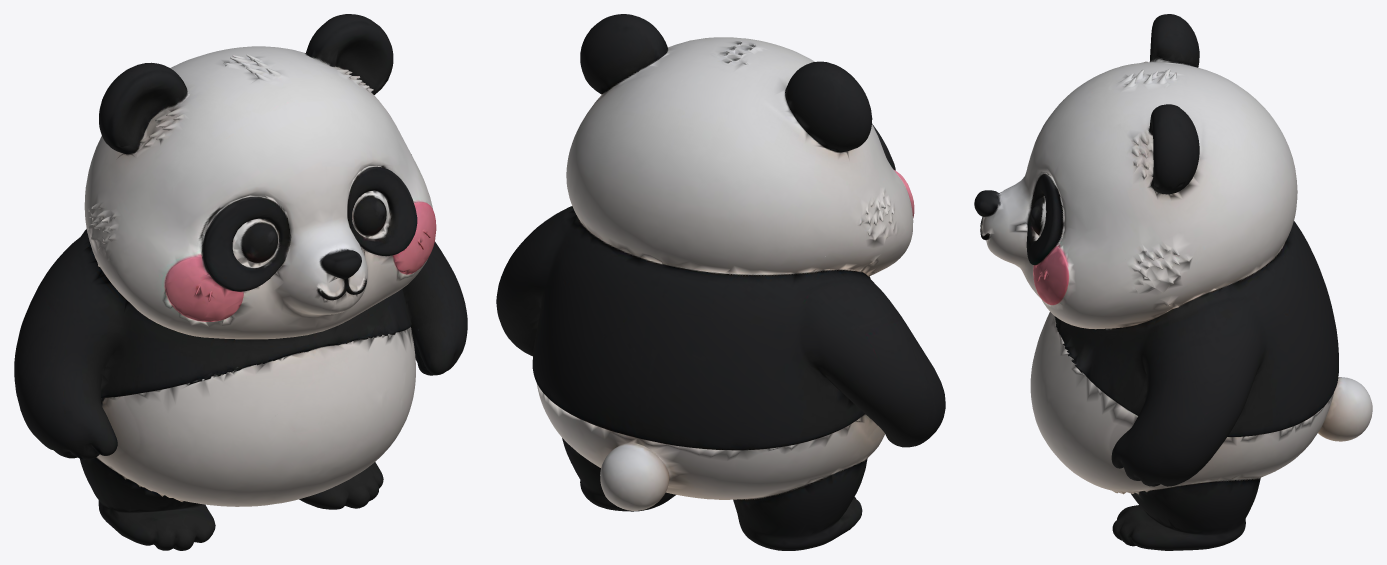
3 renders of one model, left to right at view 1: azimuth 30°, elevation 25°; view 2: azimuth 150°, elevation 25°; view 3: azimuth 270°, elevation 25°, orthographic. The views are drawn at different scales.
Parts seen in each view (by area): view 1: tripo_node_d1a477e4-4c47-4fdd-962a-ff8d31662a83_AnimatedRoot; view 2: tripo_node_d1a477e4-4c47-4fdd-962a-ff8d31662a83_AnimatedRoot; view 3: tripo_node_d1a477e4-4c47-4fdd-962a-ff8d31662a83_AnimatedRoot.
Part boxes in pixels (x1=…): tripo_node_d1a477e4-4c47-4fdd-962a-ff8d31662a83_AnimatedRoot: x1=14, y1=14, x2=467, y2=550; tripo_node_d1a477e4-4c47-4fdd-962a-ff8d31662a83_AnimatedRoot: x1=496, y1=14, x2=945, y2=550; tripo_node_d1a477e4-4c47-4fdd-962a-ff8d31662a83_AnimatedRoot: x1=974, y1=14, x2=1372, y2=550.
Bounding box in the file's own units: 0.29 × 0.3 × 0.2477.
1 material, 1 textured.
